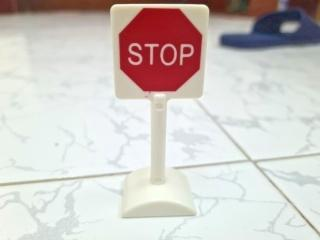stop: (97, 1, 217, 109)
